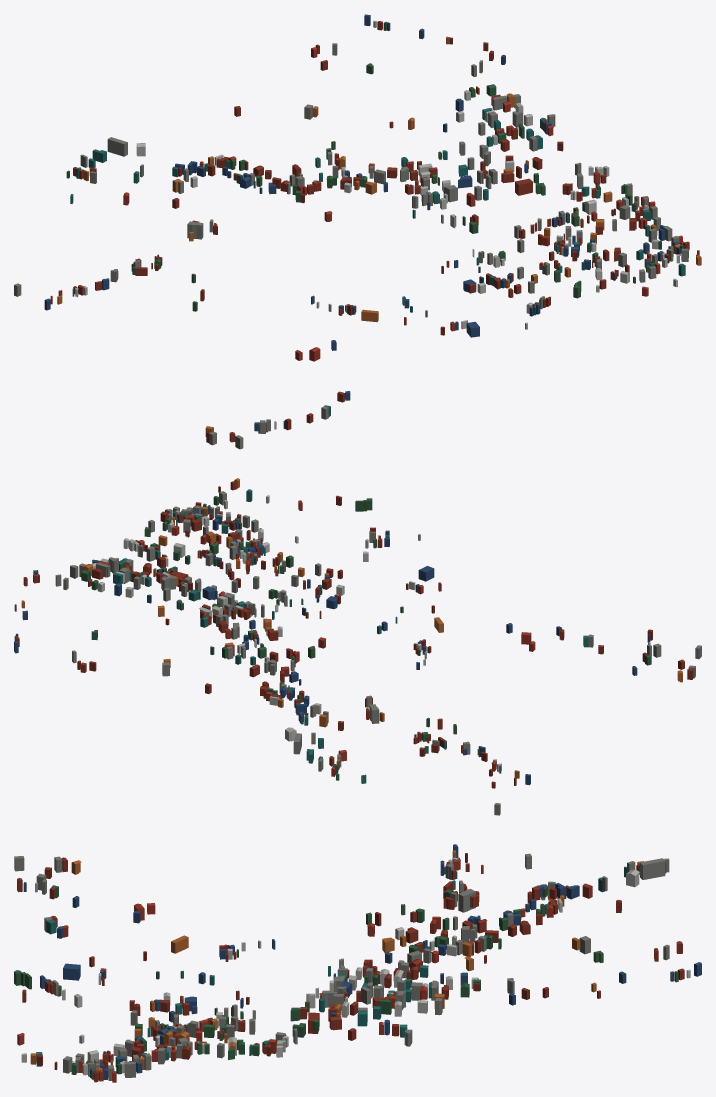
File: near-15-27358-14867.5cc5218e.glb
3 renders of one model, top to bottom at view 1: azimuth 30°, elevation 25°; view 2: azimuth 150°, elevation 25°; view 3: azimuth 270°, elevation 25°, orthographic. The views are drawn at different scales.
Size of the model in its own units: 1148 by 309 by 1156.
